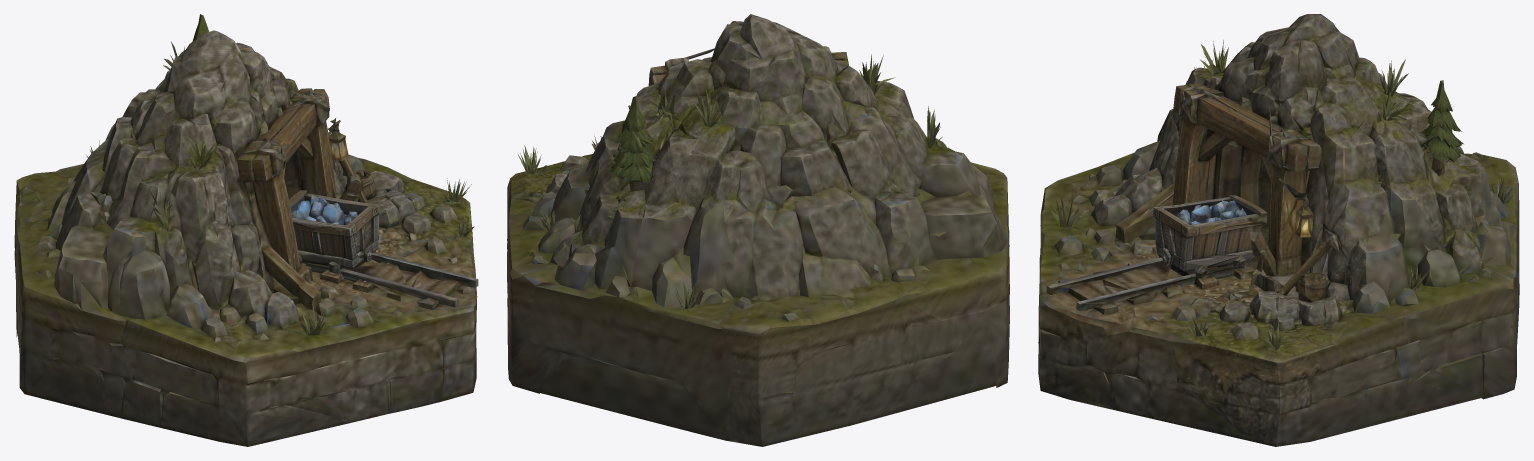
File: mine.glb
3 views of the same model, side by side, from view 1: azimuth 30°, elevation 25°; view 2: azimuth 150°, elevation 25°; view 3: azimuth 270°, elevation 25° (orthographic). The views are drawn at different scales.
Bounding box in the file's own units: 2.35 × 1.48 × 2.08.
Materials: 1 (1 with a texture image).
